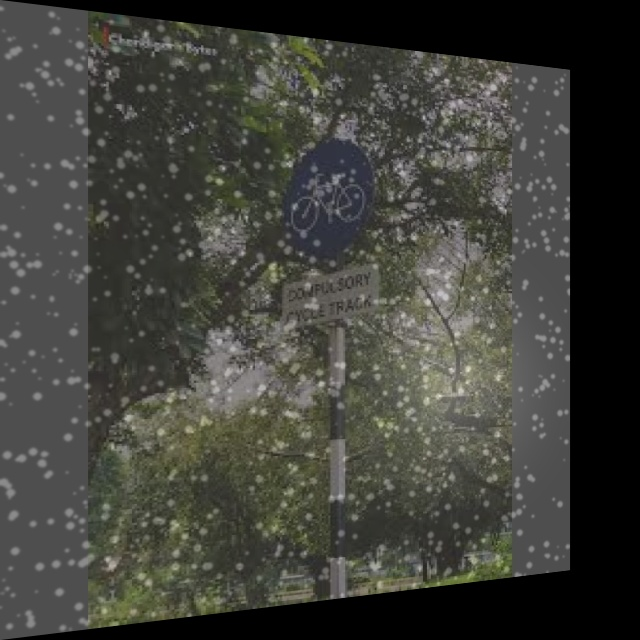Compulsory_Cycle_Track: (278, 135, 384, 259)
